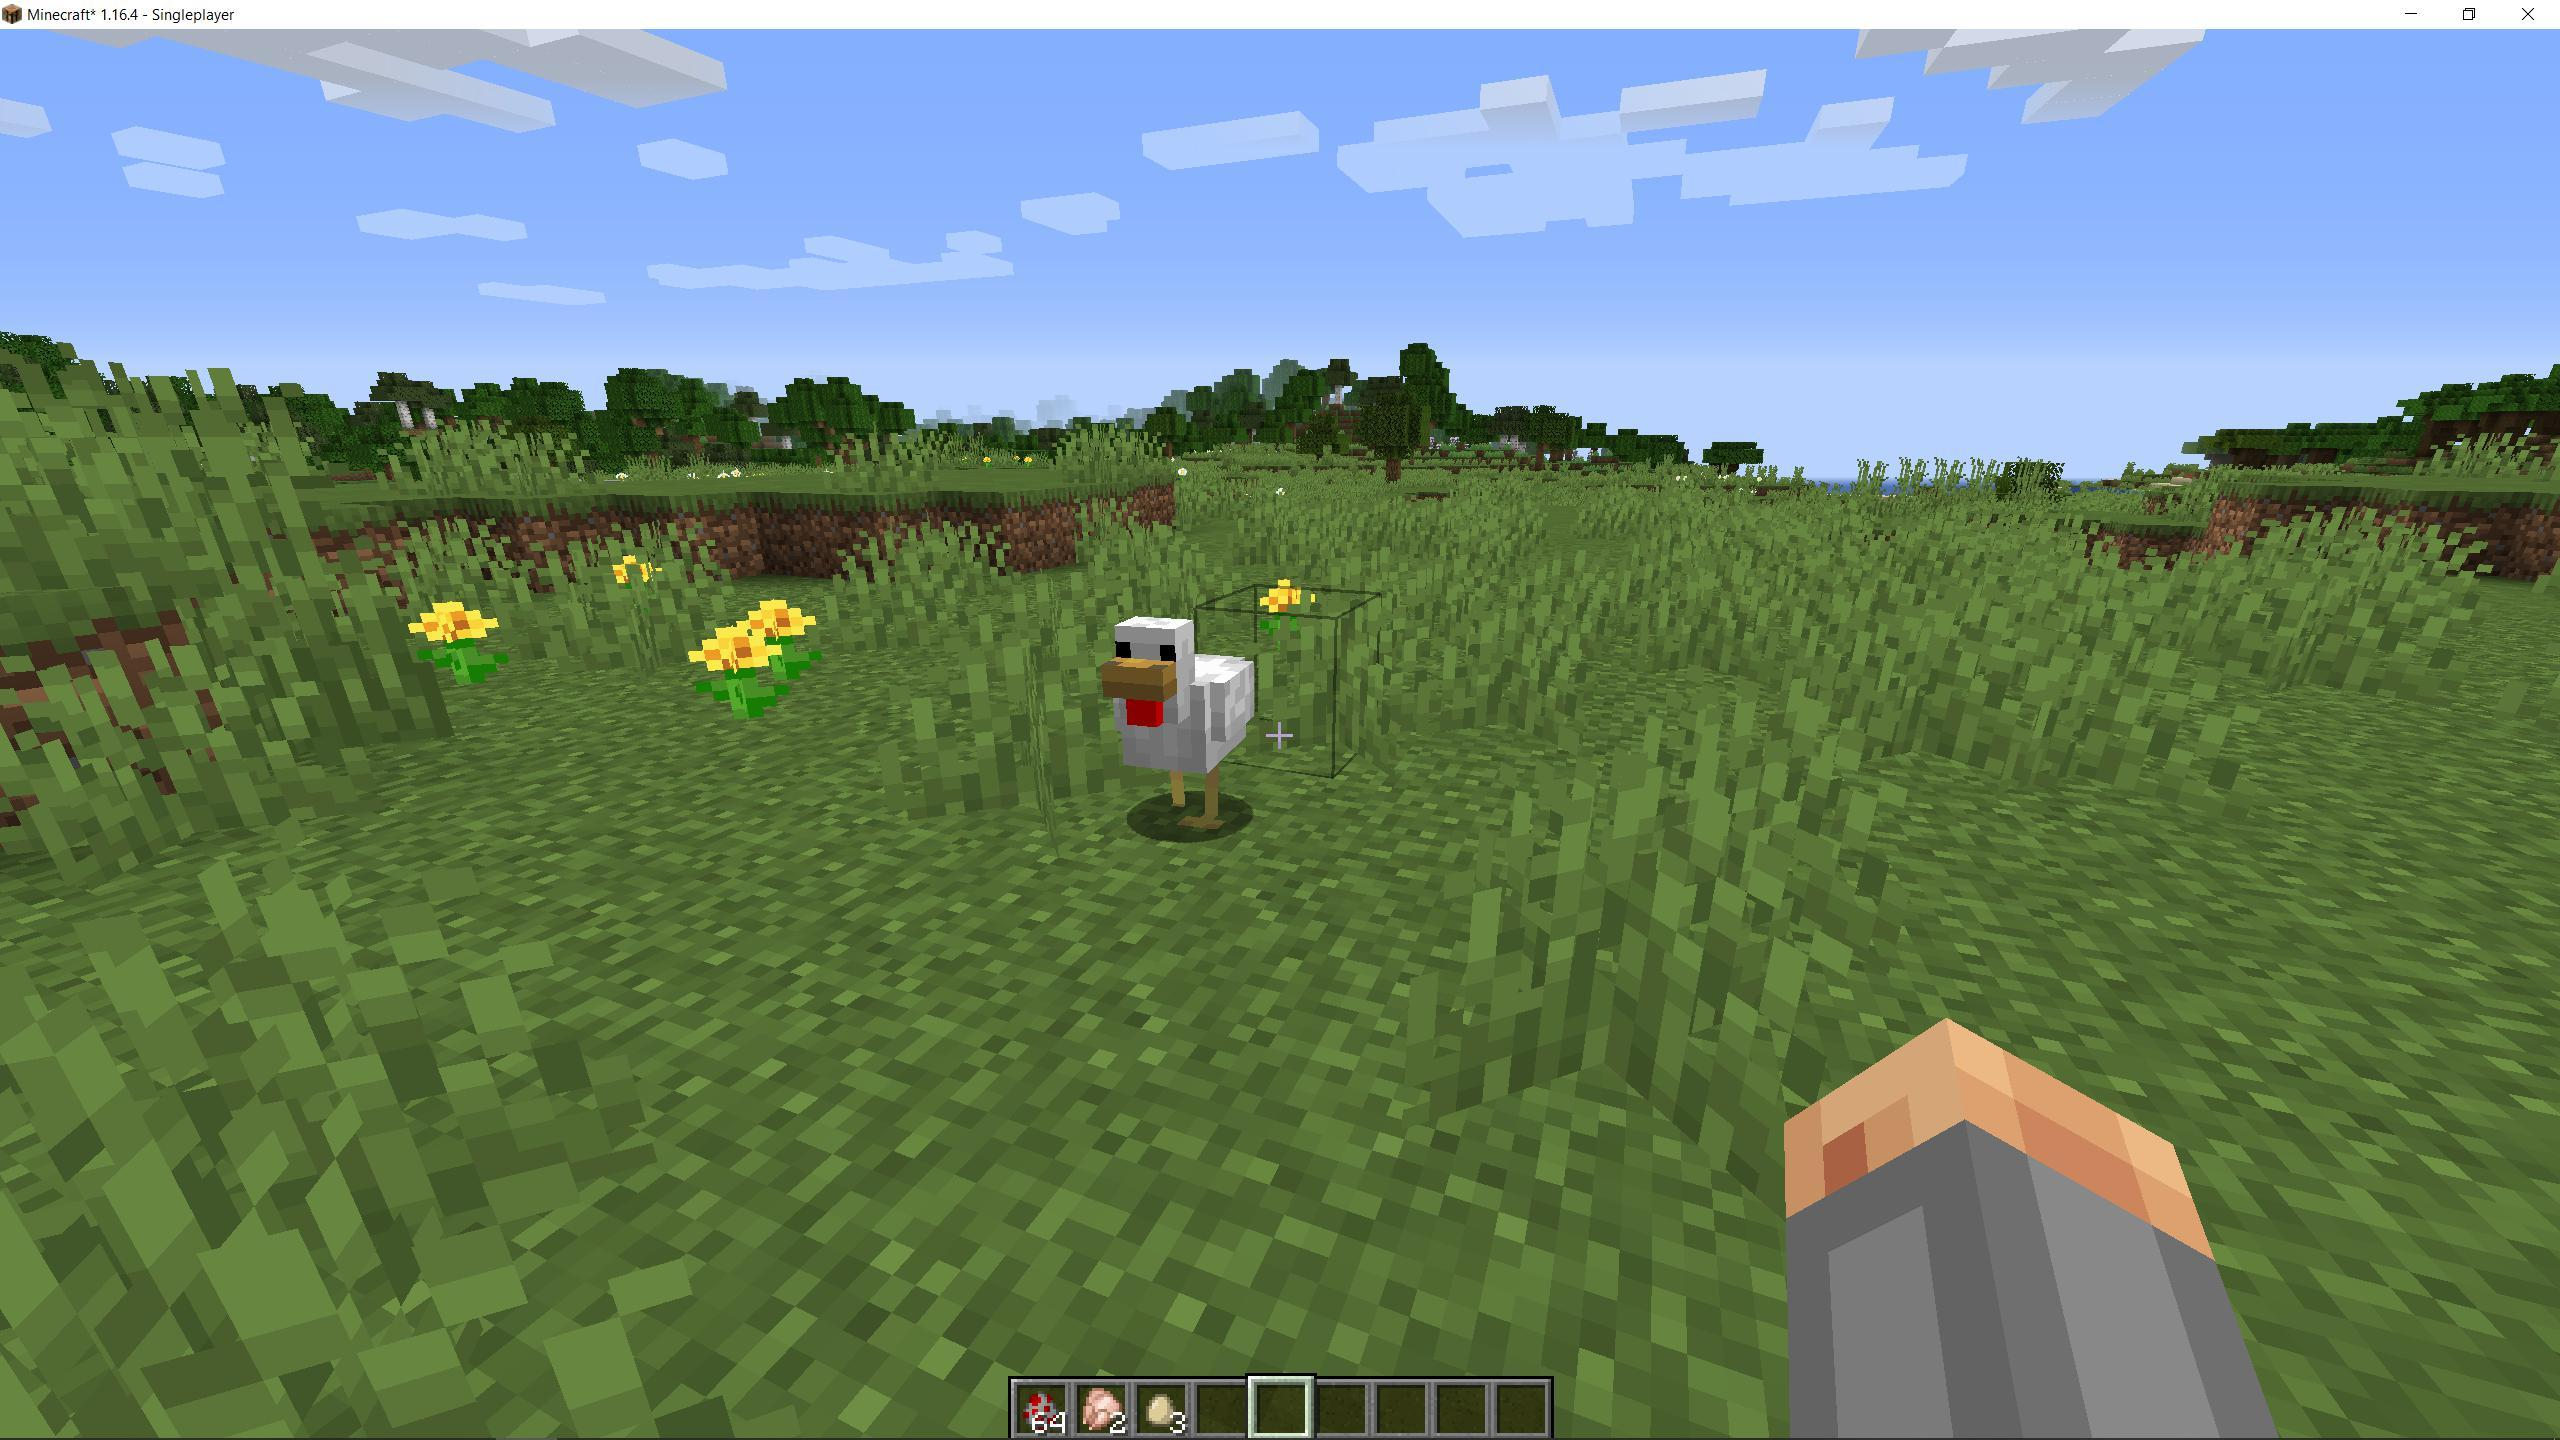chicken: (1090, 594, 1273, 847)
